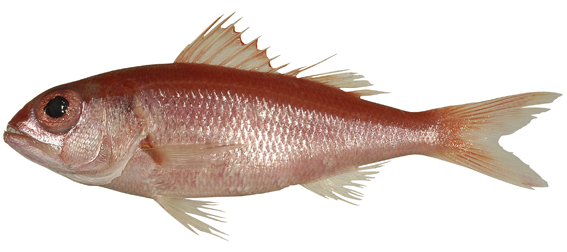fish: (3, 10, 562, 243)
